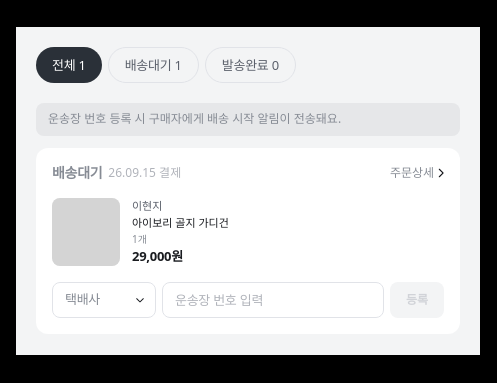
Test: WaybillForm › 이미 발송완료된 주문이면 그렇게 알린다
Select "CJ 대한통운" in the dropdown named "택배사" at point(104, 300), box [52,282,156,318]
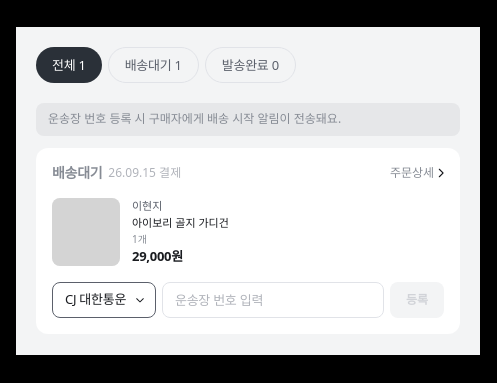
Type "394817503811" into the field labelled "운송장 번호" at point(273, 300), box [162,282,384,318]
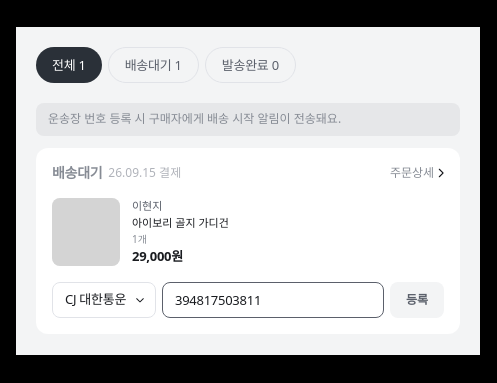
Click the button "등록" at point(417, 300), box [390,282,444,318]
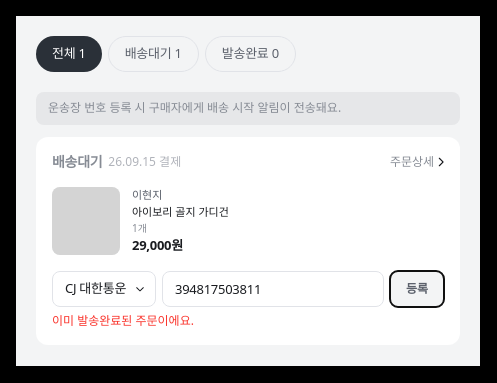
Check: the message reads "이미 발송완료된 주문이에요.", box [52,312,194,328]
